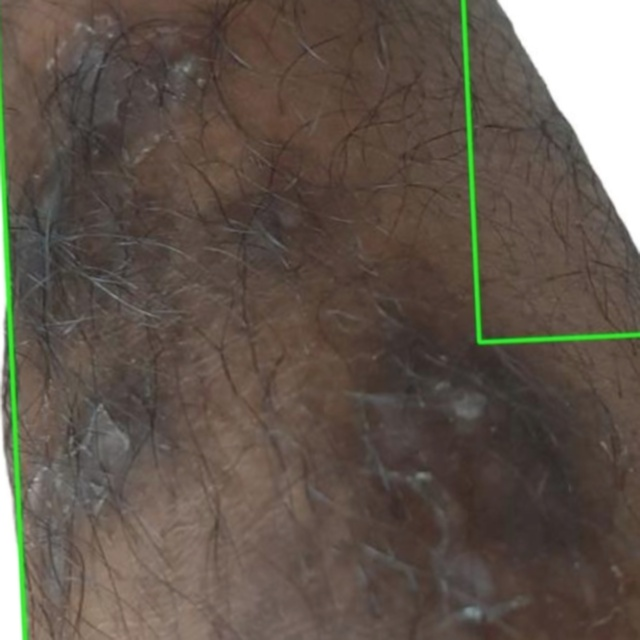Eczema: (463, 0, 639, 342)
